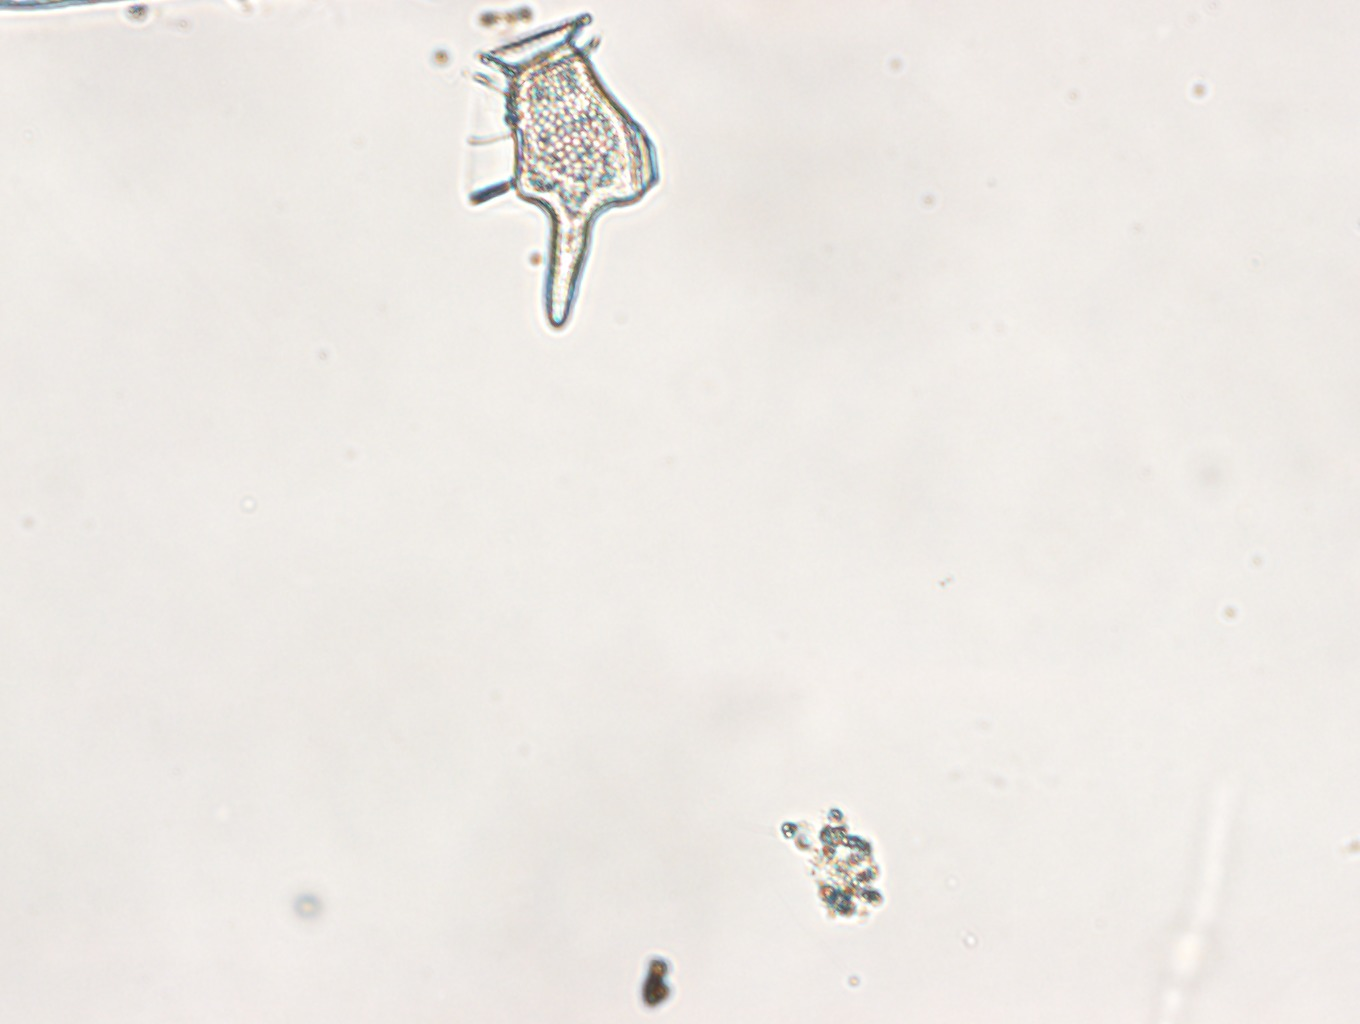dinophysis caudata: (466, 10, 661, 332)
